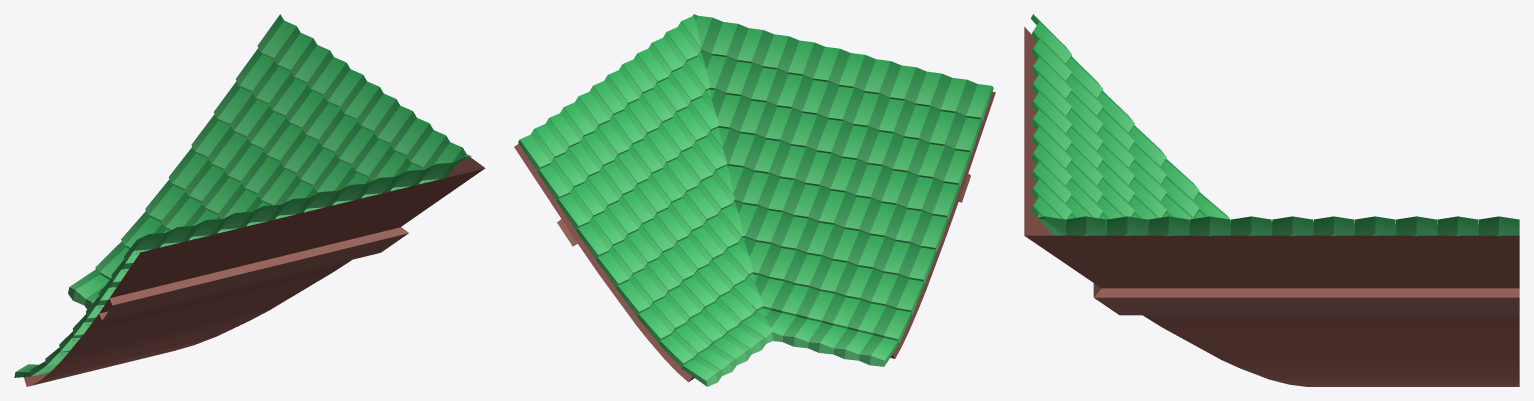
Rendered from RoofCorner_Big.fbx.
3 views of the same model, side by side, from view 1: azimuth 30°, elevation 25°; view 2: azimuth 150°, elevation 25°; view 3: azimuth 270°, elevation 25° (orthographic). The views are drawn at different scales.
Visible parts, largest first — view 1: RoofCorner_Big; view 2: RoofCorner_Big; view 3: RoofCorner_Big.
Part boxes in pixels (<box>): RoofCorner_Big: <box>14,14,485,386</box>; RoofCorner_Big: <box>514,14,995,386</box>; RoofCorner_Big: <box>1024,14,1519,386</box>.
Bounding box in the file's own units: 4.8 × 4.8 × 3.04.
